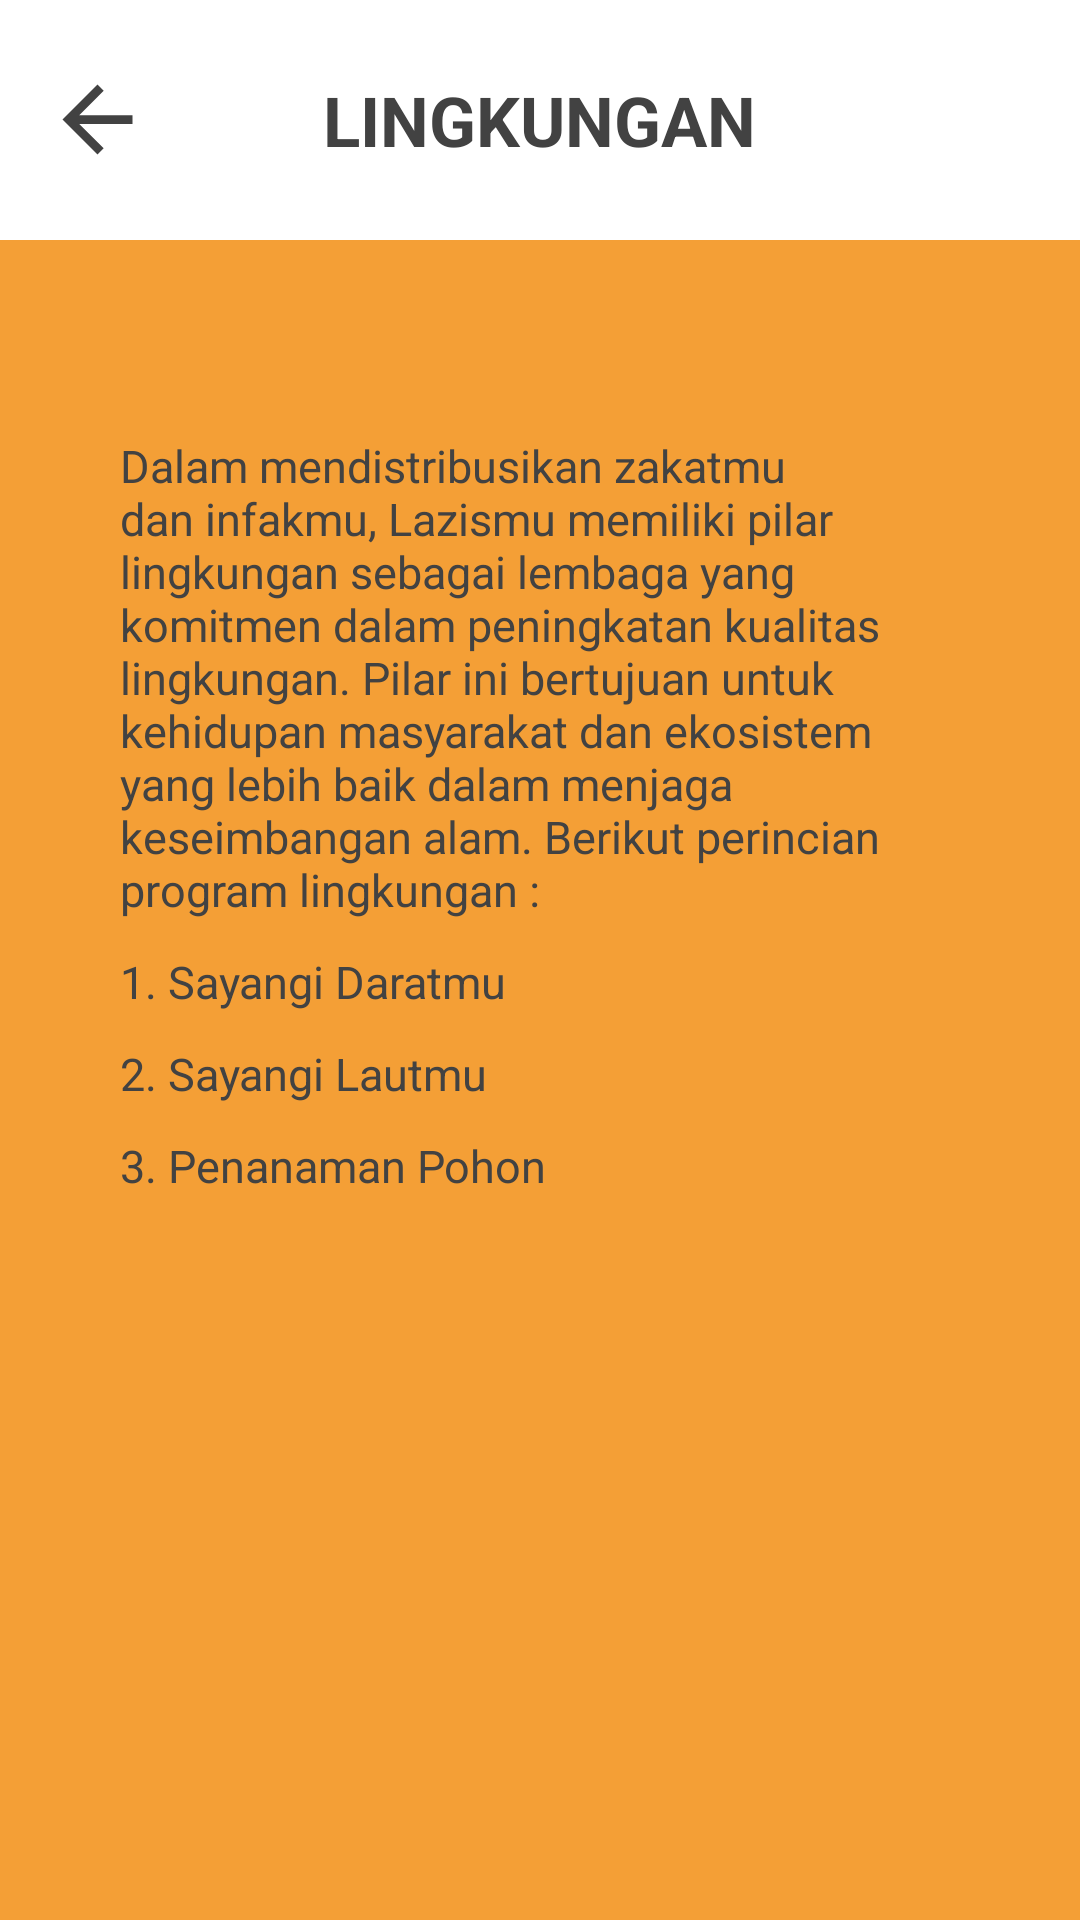

Point at icon controls on the screen. Image size 1080px×1920px, points as [x,y].
kembaliicondark: [97,119]
